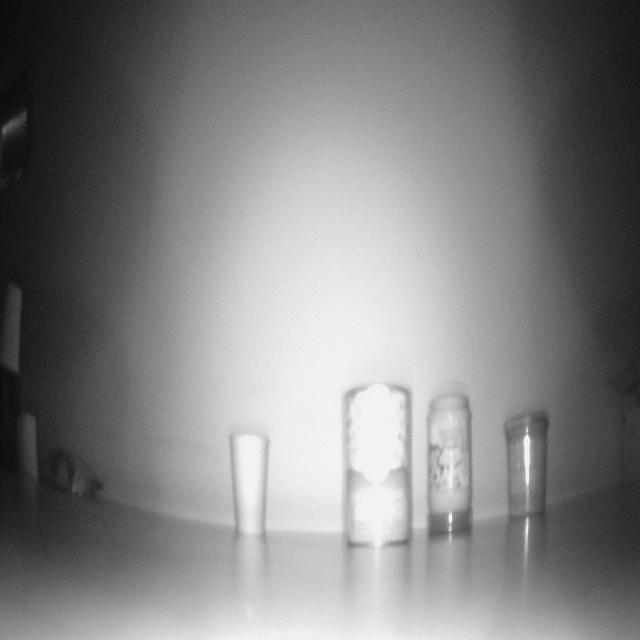targets: (345, 386, 414, 546), (422, 393, 477, 538), (503, 409, 551, 522), (230, 430, 269, 538), (15, 412, 44, 484), (2, 274, 23, 369)
